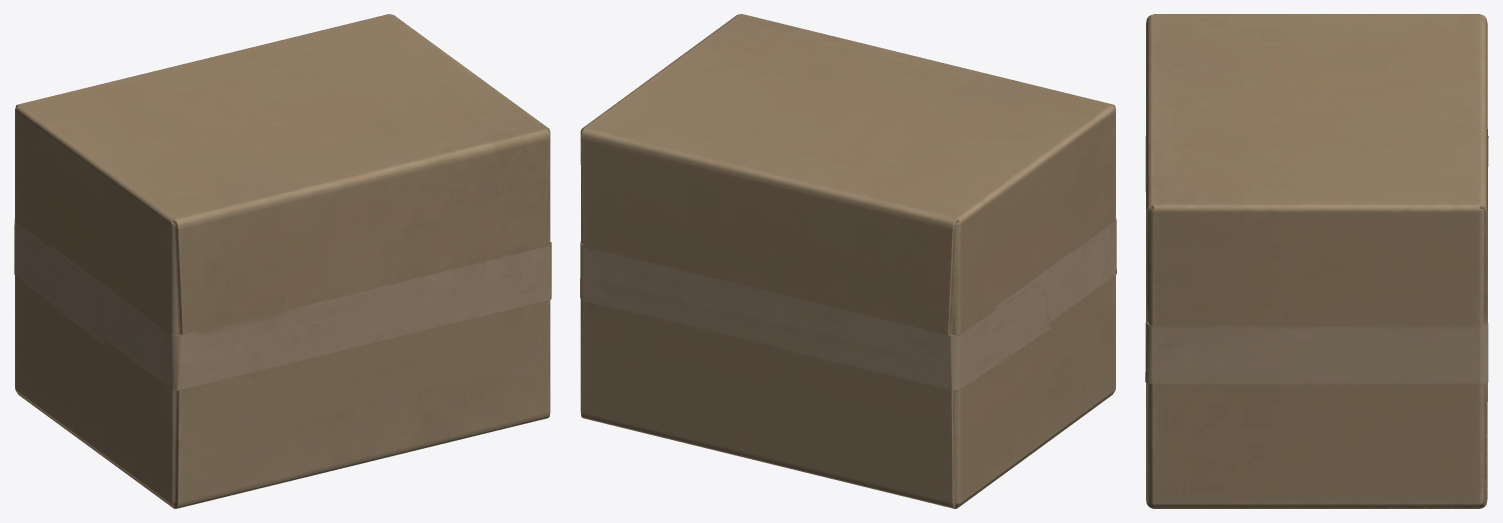
File: box_cardboard_a01.glb
3 renders of one model, left to right at view 1: azimuth 30°, elevation 25°; view 2: azimuth 150°, elevation 25°; view 3: azimuth 270°, elevation 25°, orthographic. The views are drawn at different scales.
Visible parts, largest first — view 1: sm_box_a01_mesh_00; view 2: sm_box_a01_mesh_00; view 3: sm_box_a01_mesh_00.
Part boxes in pixels (x1,y1,x2,y2): sm_box_a01_mesh_00: (14, 14, 551, 508); sm_box_a01_mesh_00: (580, 14, 1116, 508); sm_box_a01_mesh_00: (1145, 14, 1488, 508).
Size of the model in its own units: 0.6994 by 0.5099 by 0.5211.
1 material, 1 textured.
